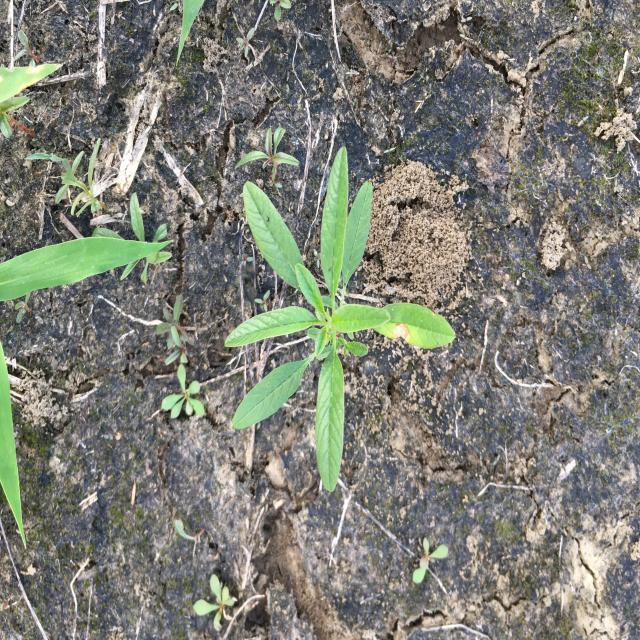Carpetweed: (157, 361, 207, 421), (191, 569, 239, 631), (412, 535, 451, 586)
Waterhemp: (222, 143, 458, 494), (88, 192, 176, 286), (51, 137, 112, 220)
